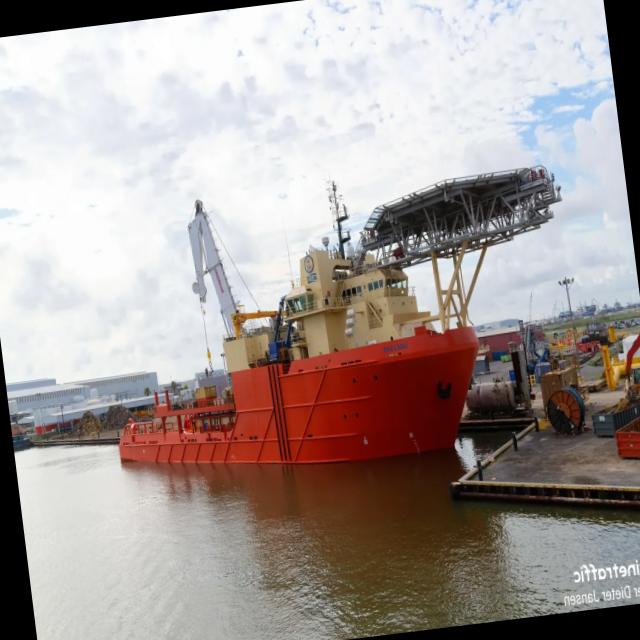Offshore: (119, 165, 561, 463)
